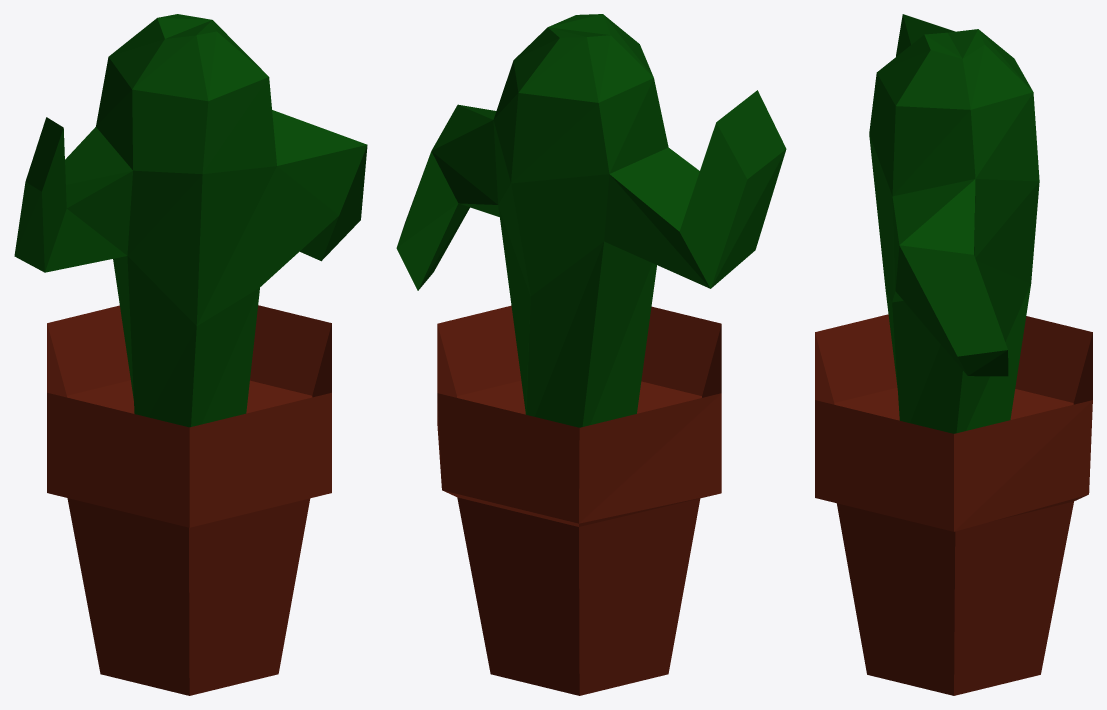
The model's file is cactus.FBX.
3 renders of one model, left to right at view 1: azimuth 30°, elevation 25°; view 2: azimuth 150°, elevation 25°; view 3: azimuth 270°, elevation 25°, orthographic. The views are drawn at different scales.
Parts seen in each view (by area): view 1: Cylinder001; view 2: Cylinder001; view 3: Cylinder001.
Boxes of the visible parts, left/top/right/bottom form: Cylinder001: left=14, top=14, right=367, bottom=695; Cylinder001: left=396, top=14, right=786, bottom=695; Cylinder001: left=815, top=14, right=1092, bottom=695.
Bounding box in the file's own units: 10.48 × 18.01 × 7.38.
